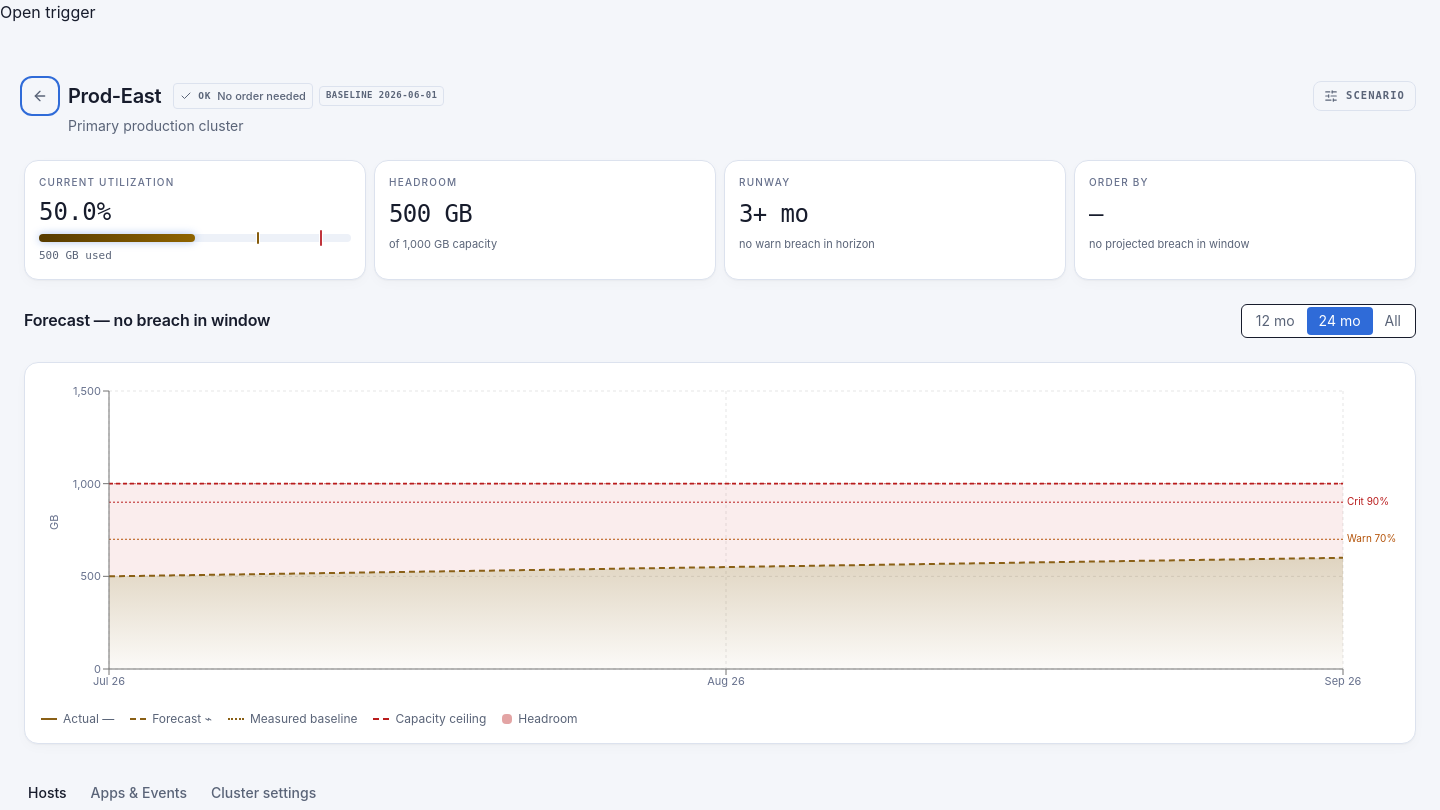
Test: <ClusterPanel> scenario pane (#226, docked rail) › does not render ScenarioControls until the rail is opened from the header button
Expected: the element with test id "kpi-strip" is shown, [24, 160, 1416, 280]
Click the button with test id "scenario-button": (1364, 96) [1313, 81, 1416, 111]
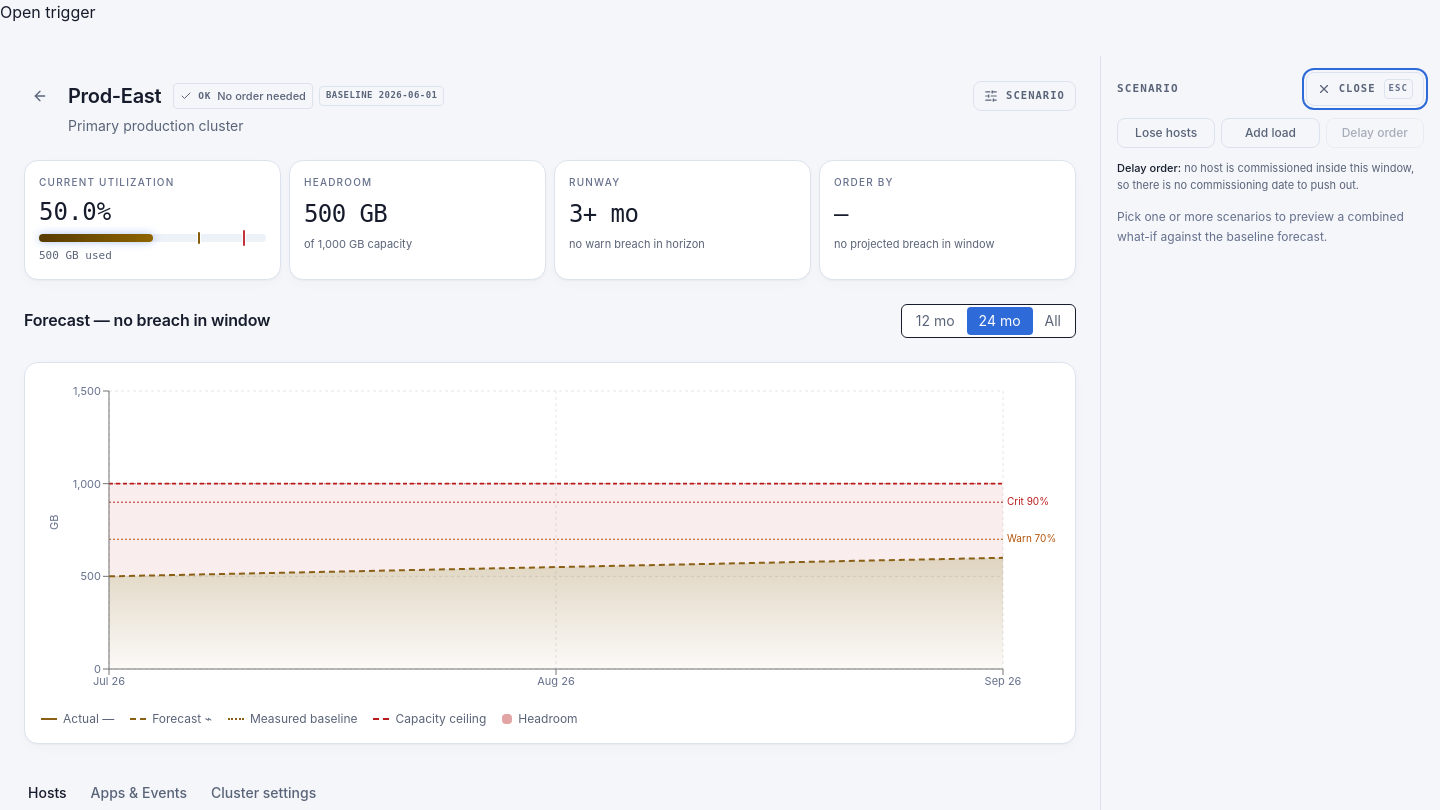
Result: the element with test id "scenario-controls" is shown at [1117, 118, 1424, 246]
